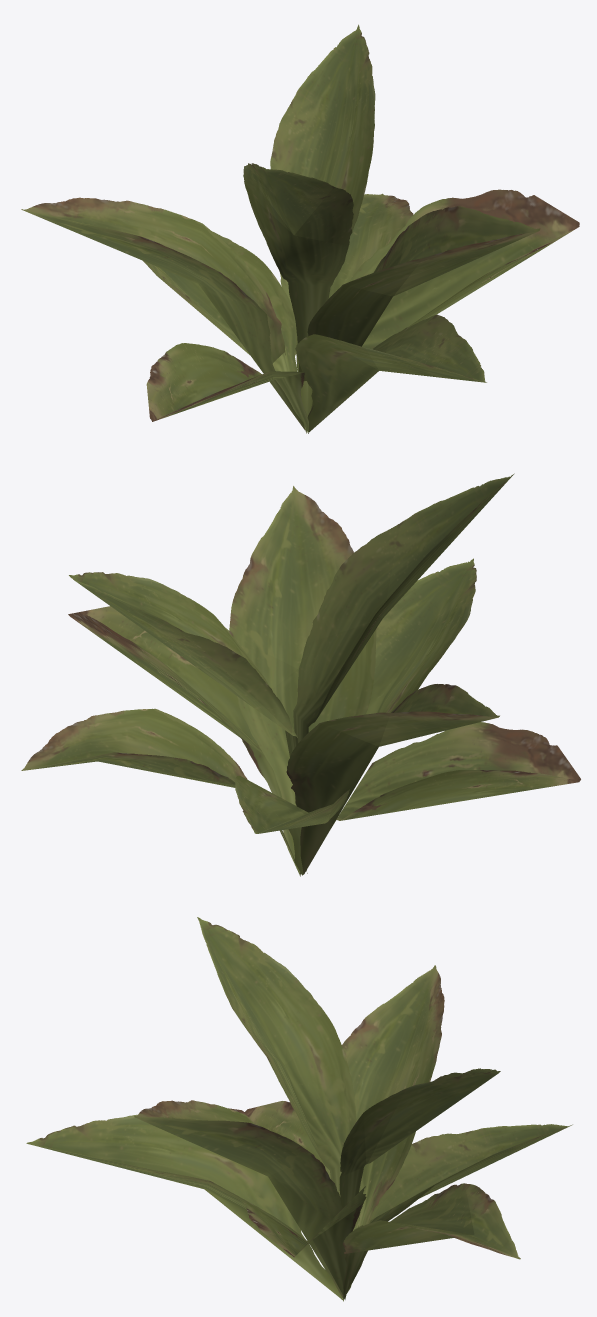
File: plant03lod0.dae
3 views of the same model, one above another, from view 1: azimuth 30°, elevation 25°; view 2: azimuth 150°, elevation 25°; view 3: azimuth 270°, elevation 25° (orthographic). The views are drawn at different scales.
Parts seen in each view (by area): view 1: SM_Plant_03_LOD; view 2: SM_Plant_03_LOD; view 3: SM_Plant_03_LOD.
Boxes of the visible parts, left/top/right/bottom form: SM_Plant_03_LOD: left=21, top=24, right=579, bottom=433; SM_Plant_03_LOD: left=21, top=473, right=580, bottom=876; SM_Plant_03_LOD: left=26, top=917, right=572, bottom=1301.
Size of the model in its own units: 1.57 by 1.11 by 1.69.
1 material, 1 textured.
